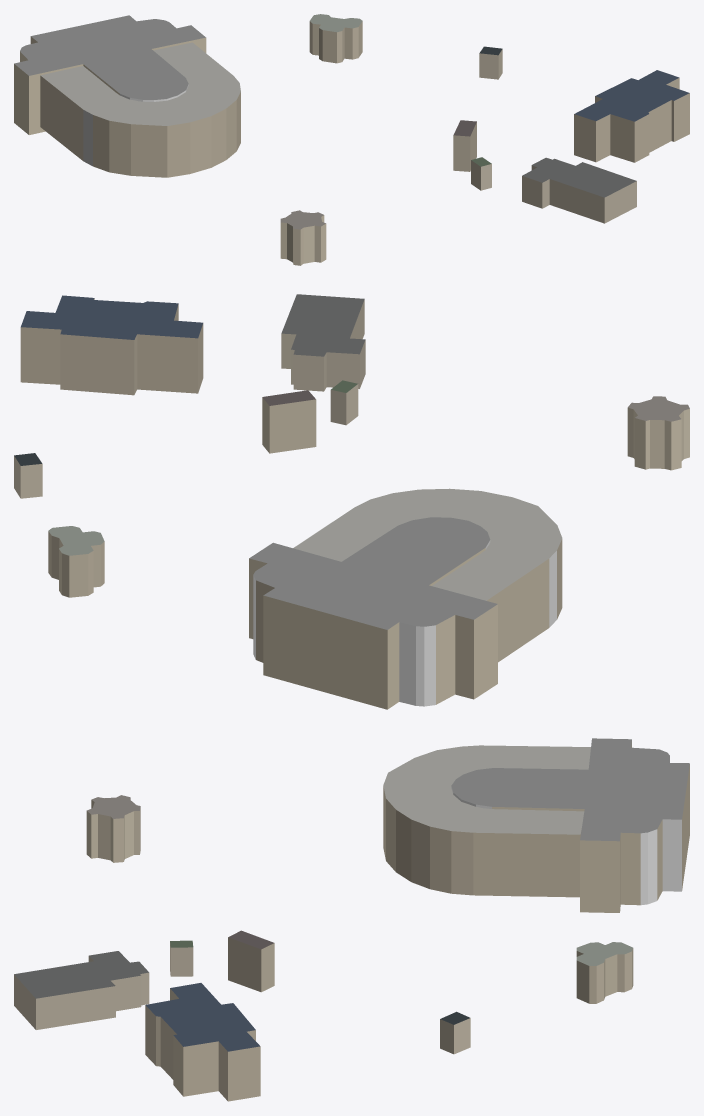
3 renders of one model, top to bottom at view 1: azimuth 30°, elevation 25°; view 2: azimuth 150°, elevation 25°; view 3: azimuth 270°, elevation 25°, orthographic. The views are drawn at different scales.
Parts seen in each view (by area): view 1: tuile; view 2: tuile; view 3: tuile.
Part boxes in pixels (x1,y1,x2,y2): tuile: (14, 14, 689, 265); tuile: (14, 294, 689, 709); tuile: (14, 738, 689, 1101).
Size of the model in its own units: 105 by 11.9 by 101.
